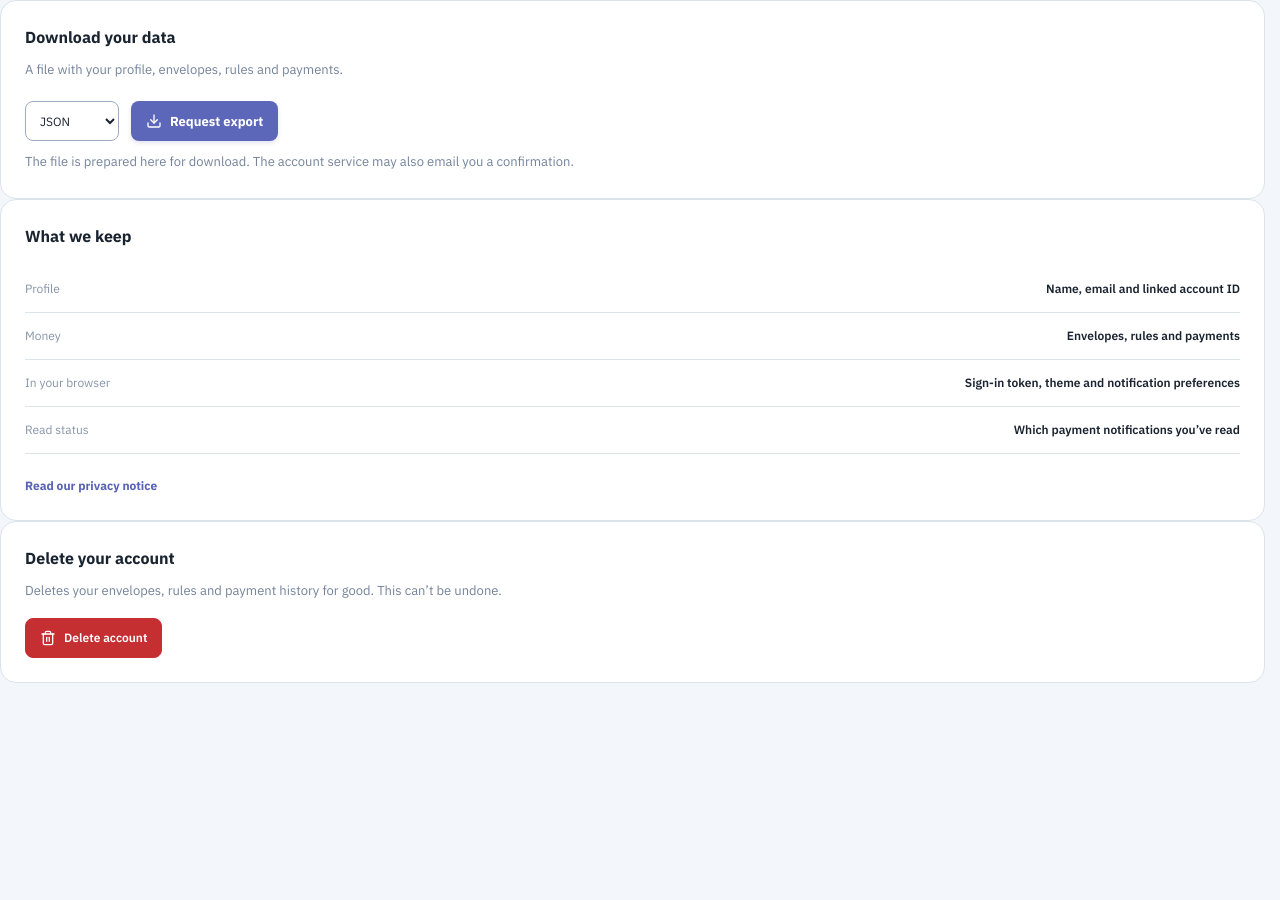
Test: PrivacySettings — GDPR export › requests the JSON export and shows what it contains
The width and height of the screenshot is (1280, 900).
Click the button "Request export" at (205, 121), box [131,101,278,141]
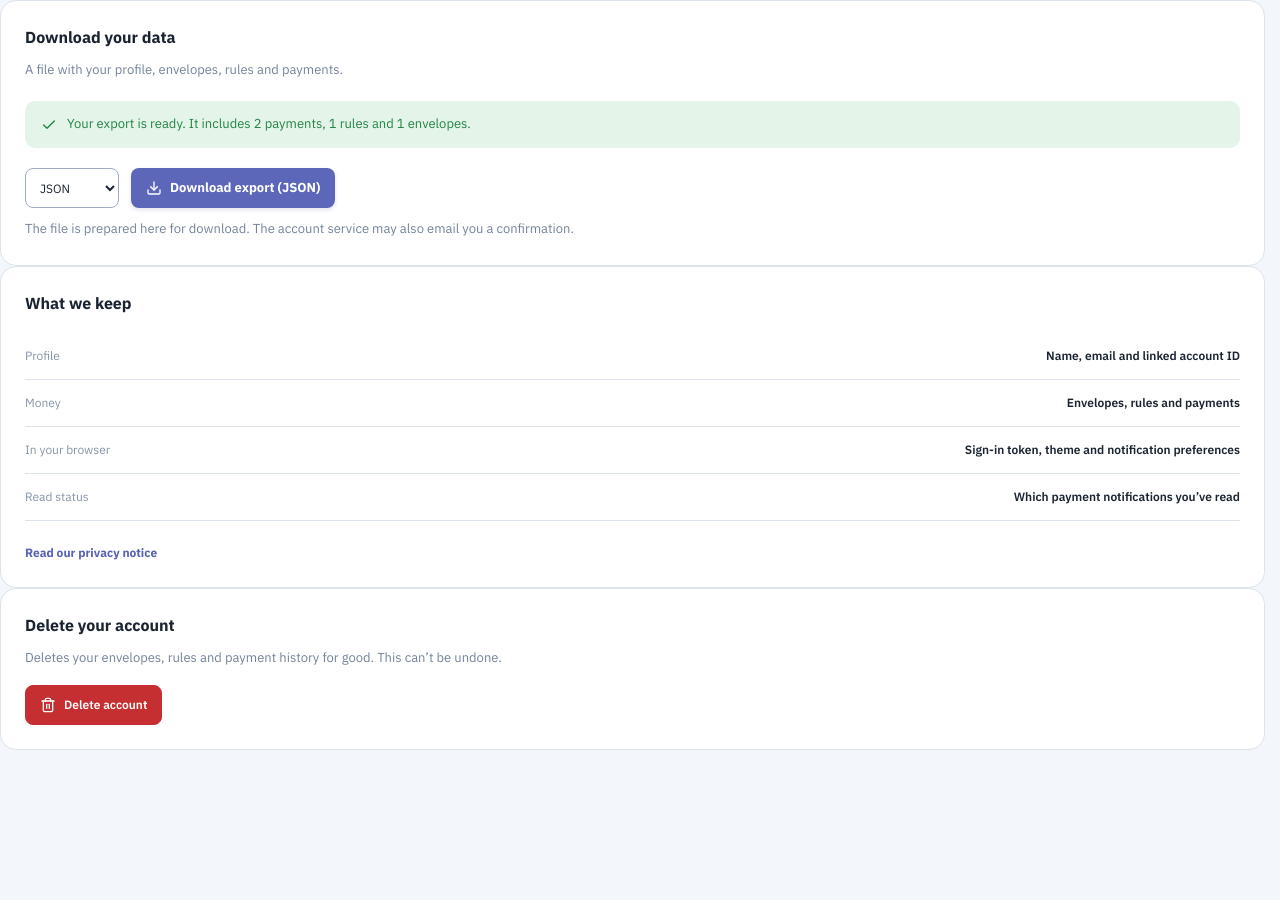
expect the message reads "Your export is ready. It includes 2 payments, 1 rules and 1 envelopes.": met, box [67,115,471,132]
